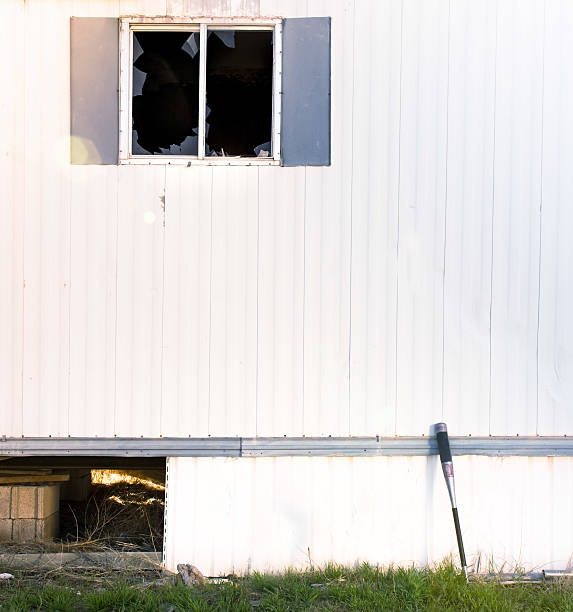bita: (436, 413, 479, 565)
